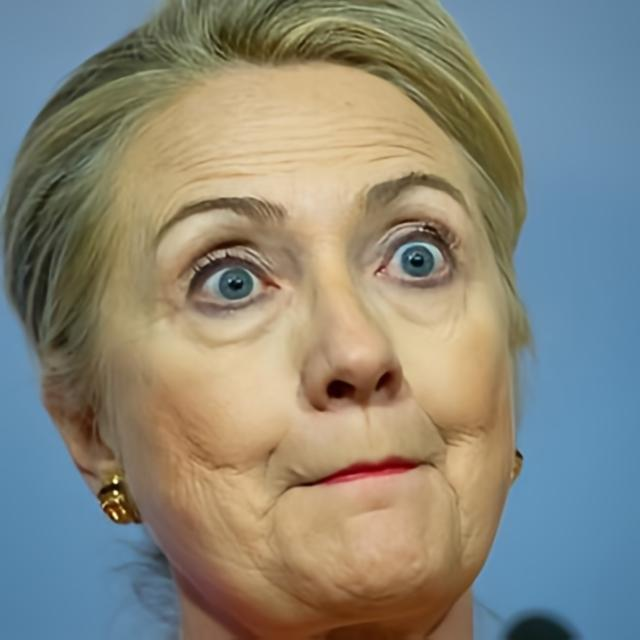surprise: (103, 59, 516, 640)
